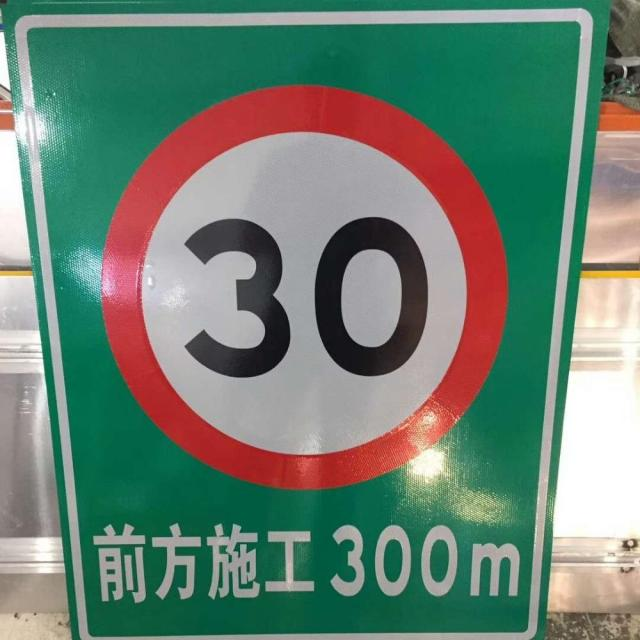speed limit 30: (99, 83, 511, 494)
